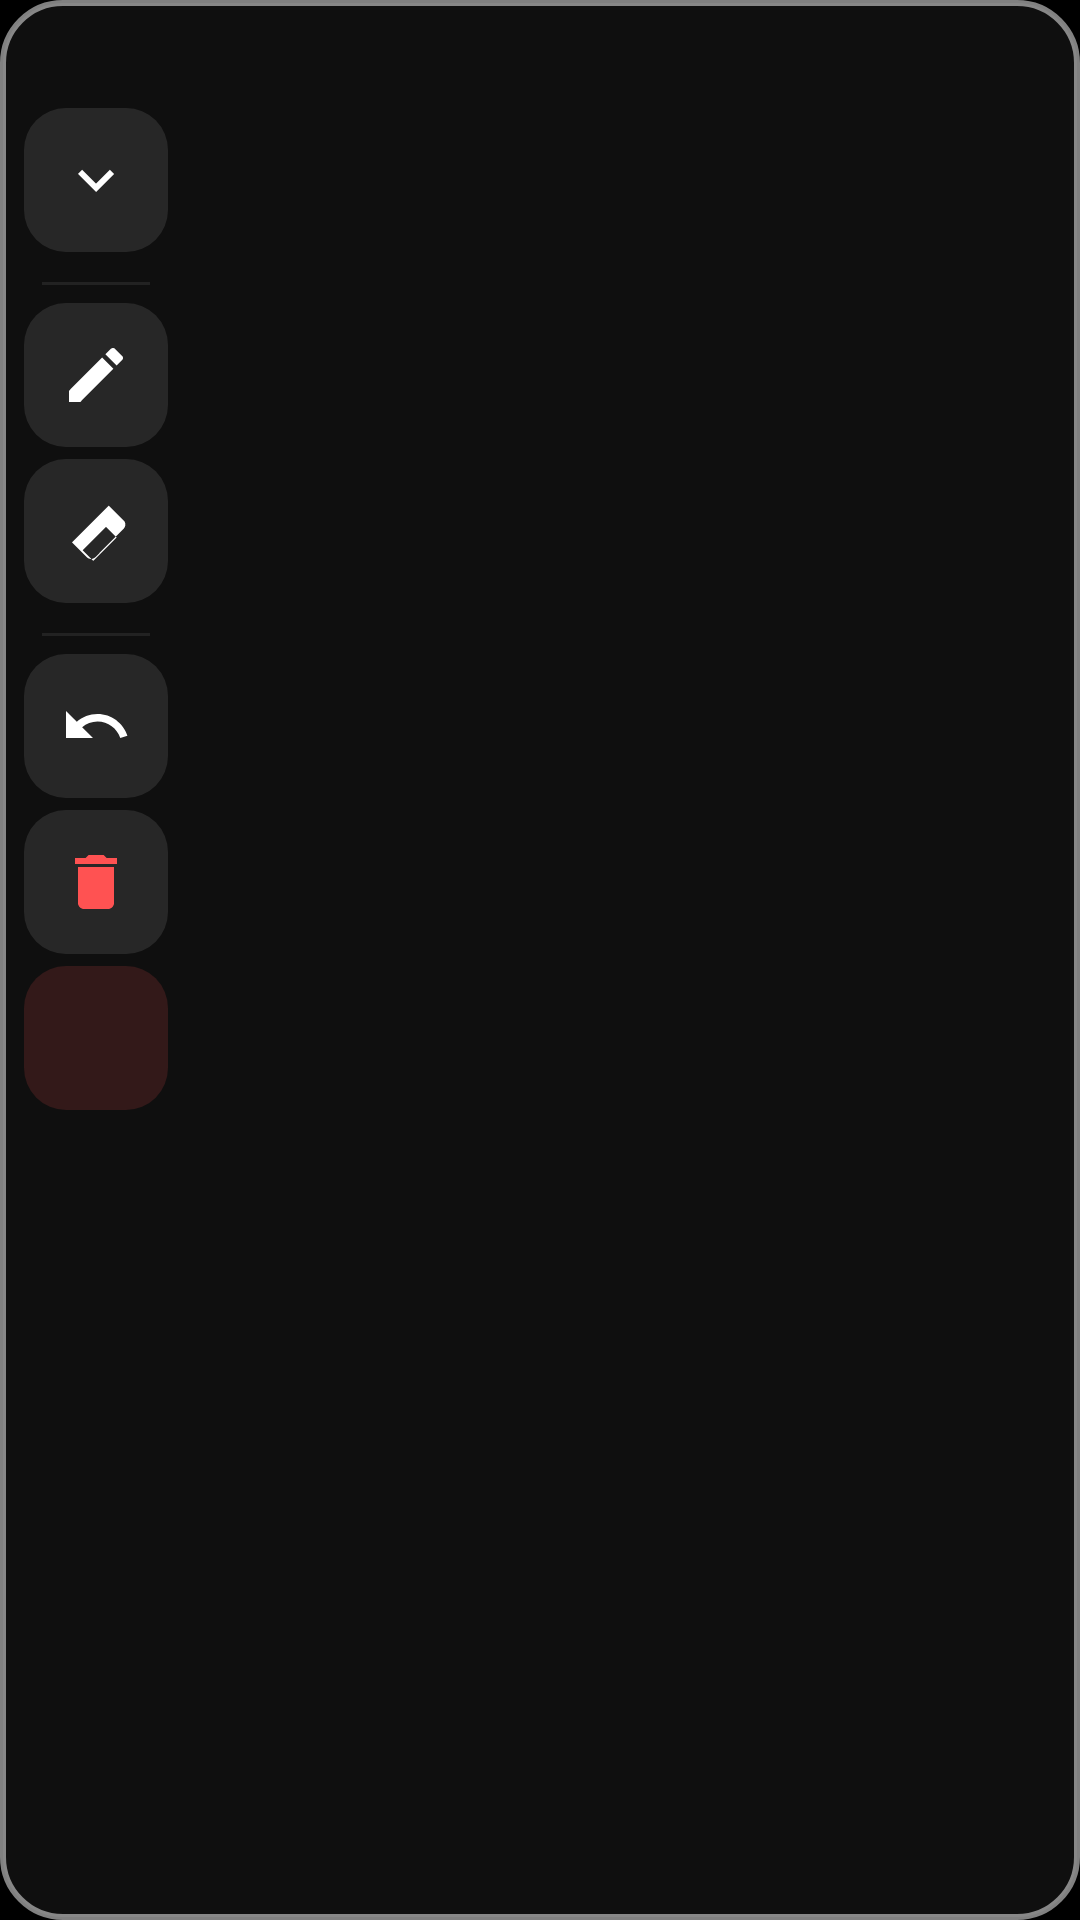

Icons on this 1080w x 1920h Android screen, each with the point to tap as point (x, y):
delete: point (96, 882)
eraser: point (96, 531)
pen: point (96, 375)
undo: point (97, 724)
